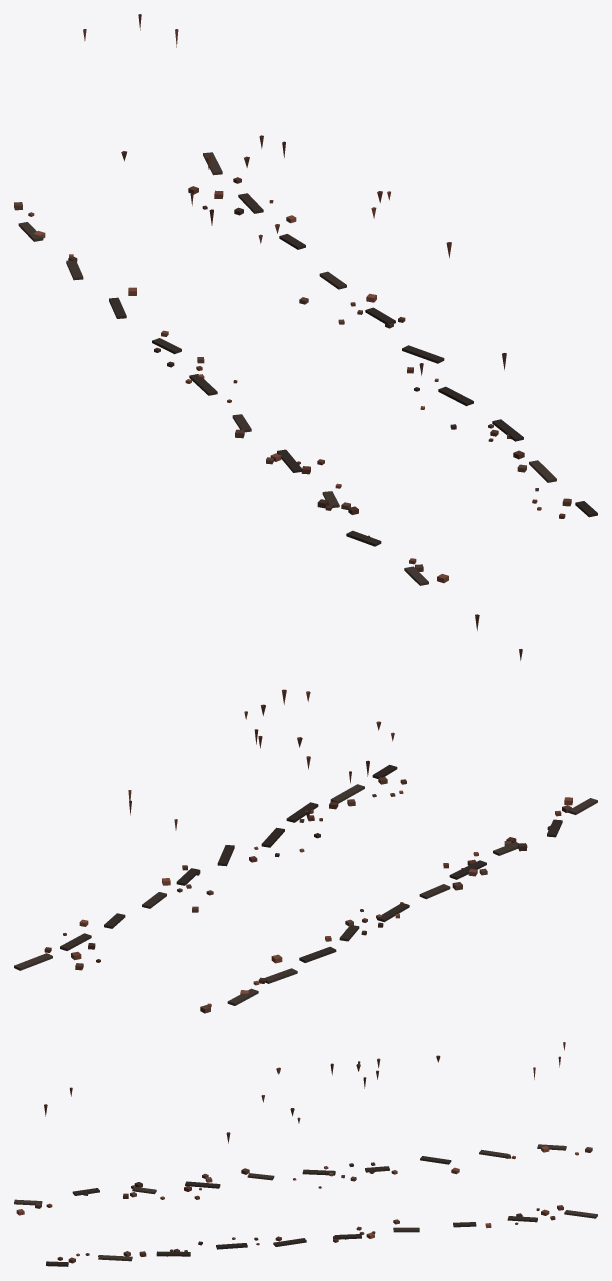
File: lava_tube_run_detail2.glb
3 views of the same model, one above another, from view 1: azimuth 30°, elevation 25°; view 2: azimuth 150°, elevation 25°; view 3: azimuth 270°, elevation 25° (orthographic). The views are drawn at different scales.
Parts seen in each view (by area): view 1: lava_tube_run_detail2; view 2: lava_tube_run_detail2; view 3: lava_tube_run_detail2.
Part boxes in pixels (bbox=[...]): lava_tube_run_detail2: bbox=[14, 14, 597, 585]; lava_tube_run_detail2: bbox=[14, 614, 597, 1013]; lava_tube_run_detail2: bbox=[14, 1042, 597, 1266].
Size of the model in its own units: 13.7 by 14.72 by 42.14.
